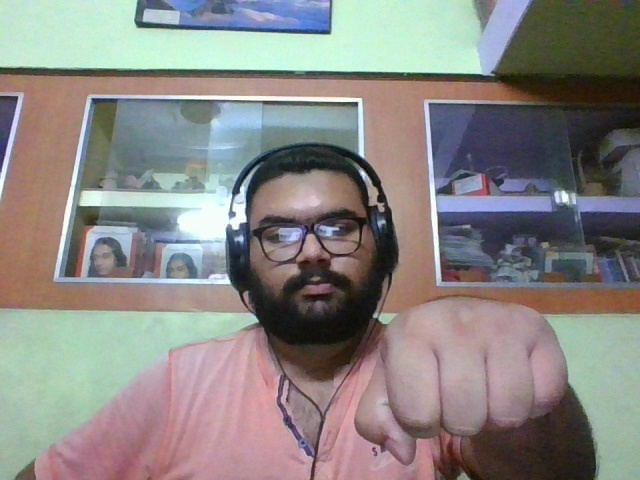yes: (351, 295, 581, 457)
